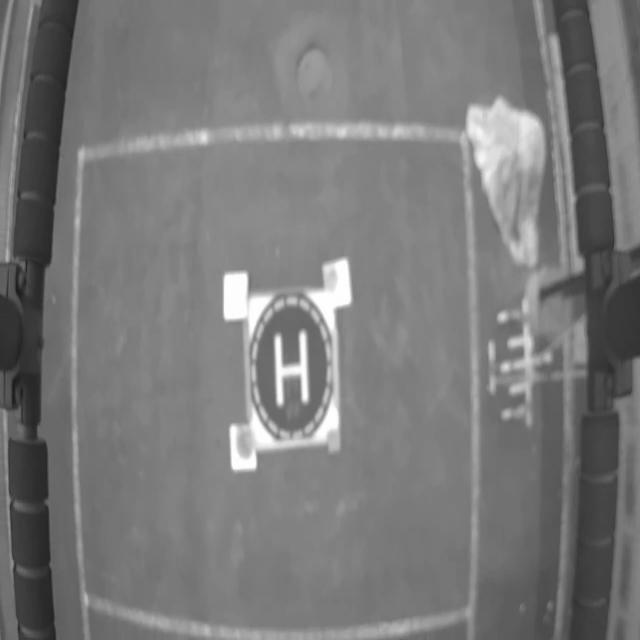Helipad: (273, 332, 310, 410)
